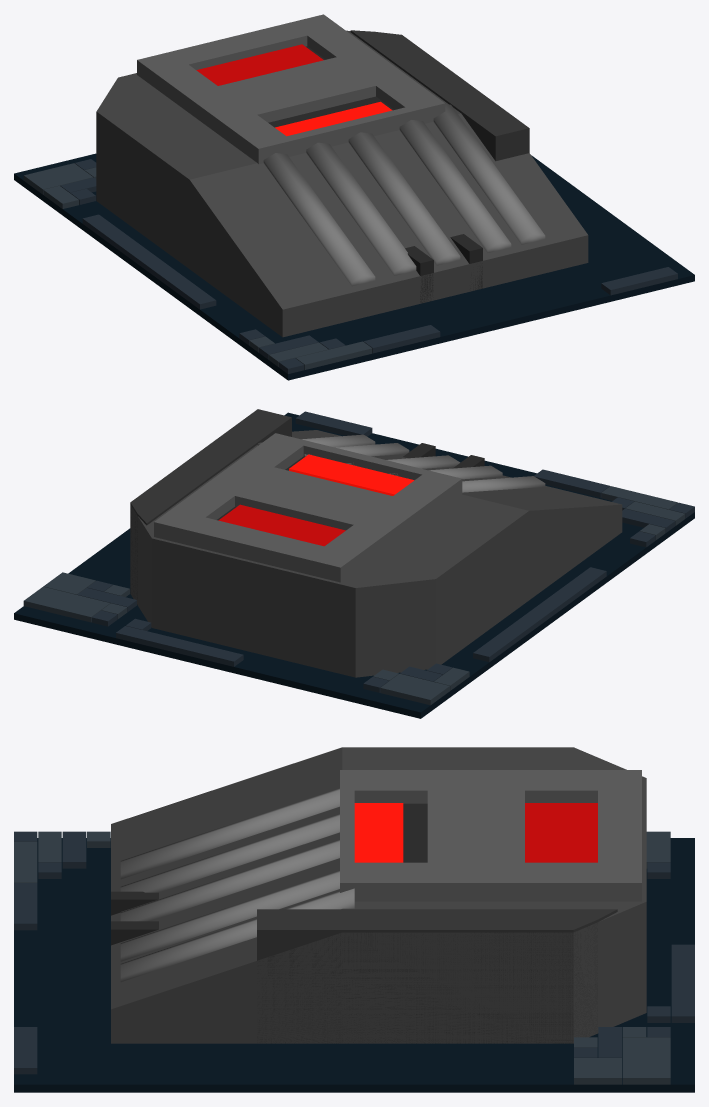
The model's file is newshc-39.glb.
3 views of the same model, one above another, from view 1: azimuth 30°, elevation 25°; view 2: azimuth 150°, elevation 25°; view 3: azimuth 270°, elevation 25° (orthographic). The views are drawn at different scales.
Parts seen in each view (by area): view 1: newshc-39, newshc-39-glow-43, newshc-39-glow-41; view 2: newshc-39, newshc-39-glow-41, newshc-39-glow-43, newshc-39-glow-39; view 3: newshc-39, newshc-39-glow-41, newshc-39-glow-43, newshc-39-glow-39.
Part boxes in pixels (x1=…): newshc-39: x1=14, y1=14, x2=694, y2=380; newshc-39-glow-43: x1=196, y1=44, x2=389, y2=134; newshc-39-glow-41: x1=206, y1=51, x2=392, y2=136; newshc-39: x1=14, y1=409, x2=694, y2=718; newshc-39-glow-41: x1=221, y1=454, x2=414, y2=544; newshc-39-glow-43: x1=218, y1=461, x2=404, y2=546; newshc-39-glow-39: x1=230, y1=504, x2=345, y2=537; newshc-39: x1=14, y1=747, x2=694, y2=1092; newshc-39-glow-41: x1=354, y1=803, x2=573, y2=862; newshc-39-glow-43: x1=379, y1=803, x2=597, y2=862; newshc-39-glow-39: x1=525, y1=803, x2=549, y2=862.
Size of the model in its own units: 2 by 0.52 by 2.33.
